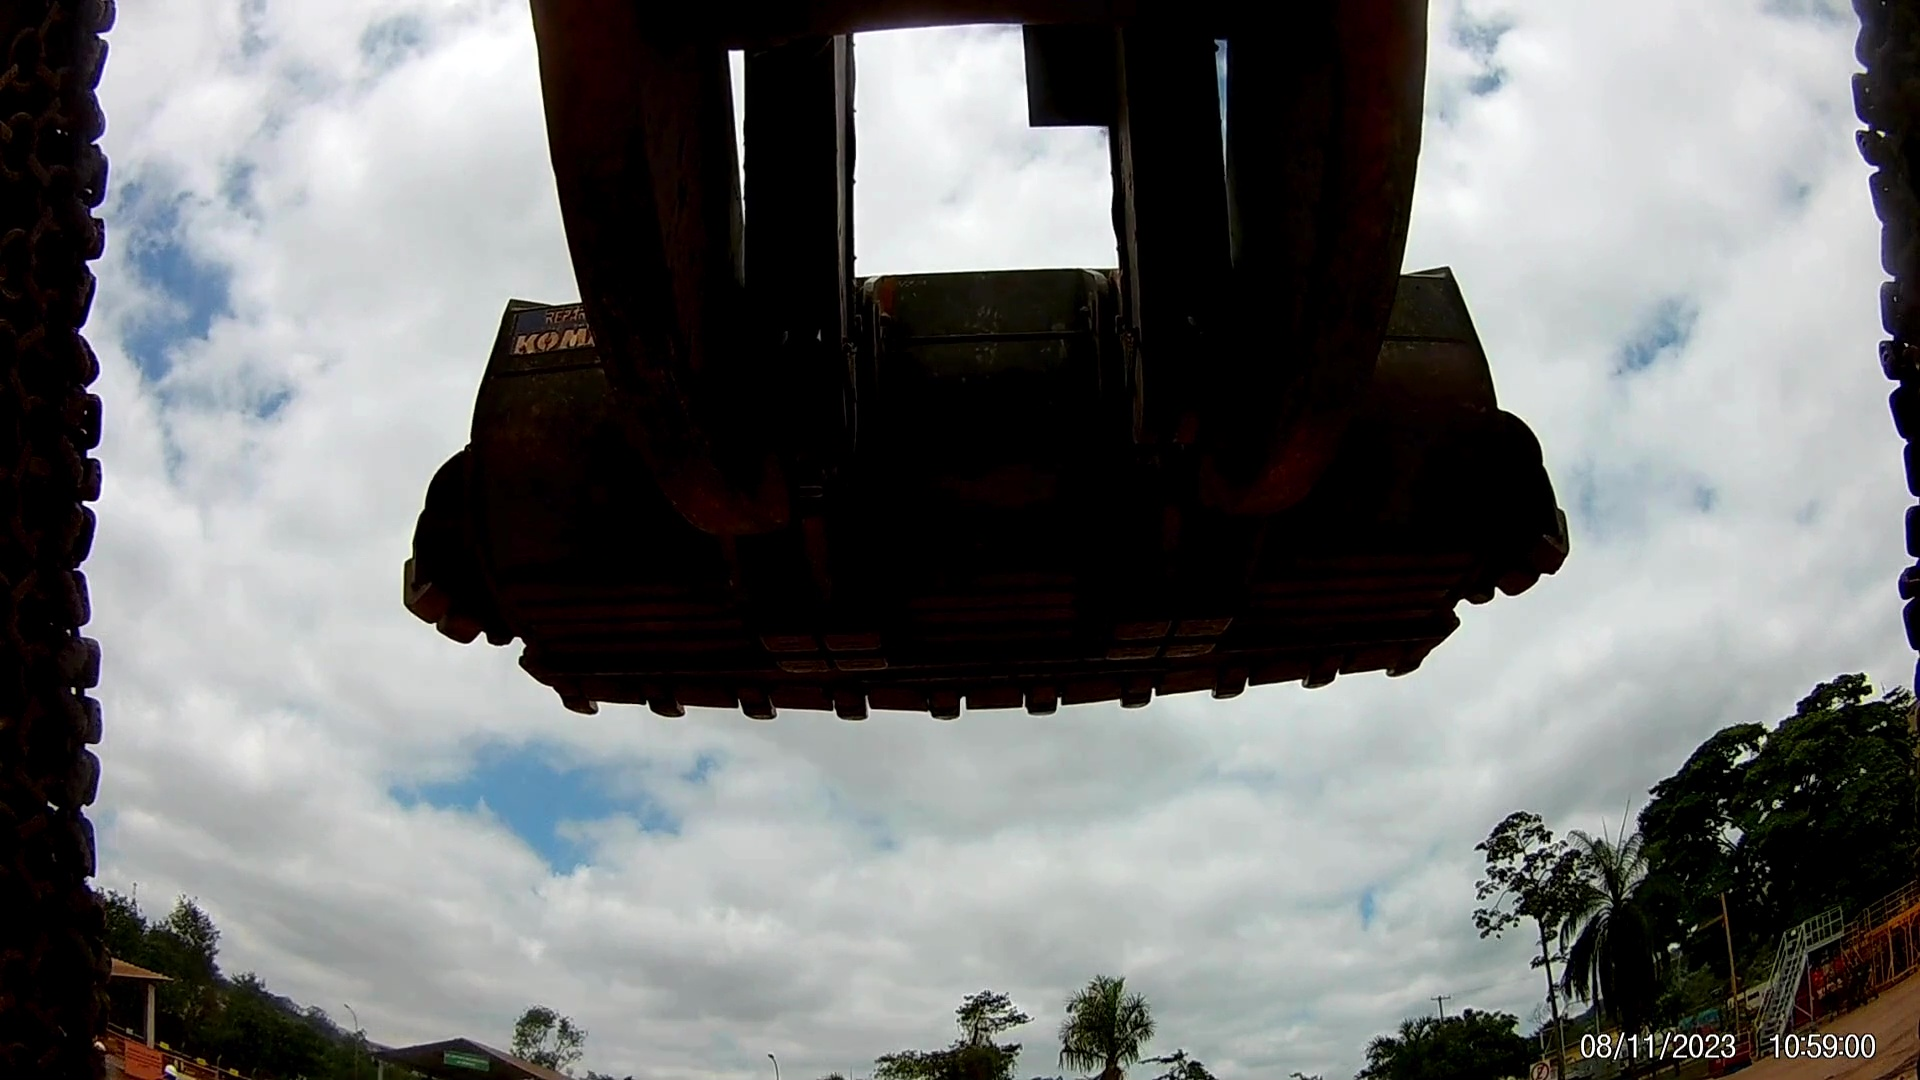FPS: (924, 680, 985, 742), (1294, 650, 1354, 707), (1113, 676, 1168, 735), (737, 684, 794, 736), (1021, 679, 1077, 731), (1385, 645, 1439, 698), (1211, 659, 1258, 715), (825, 694, 887, 736), (560, 686, 611, 736), (649, 698, 702, 736)
